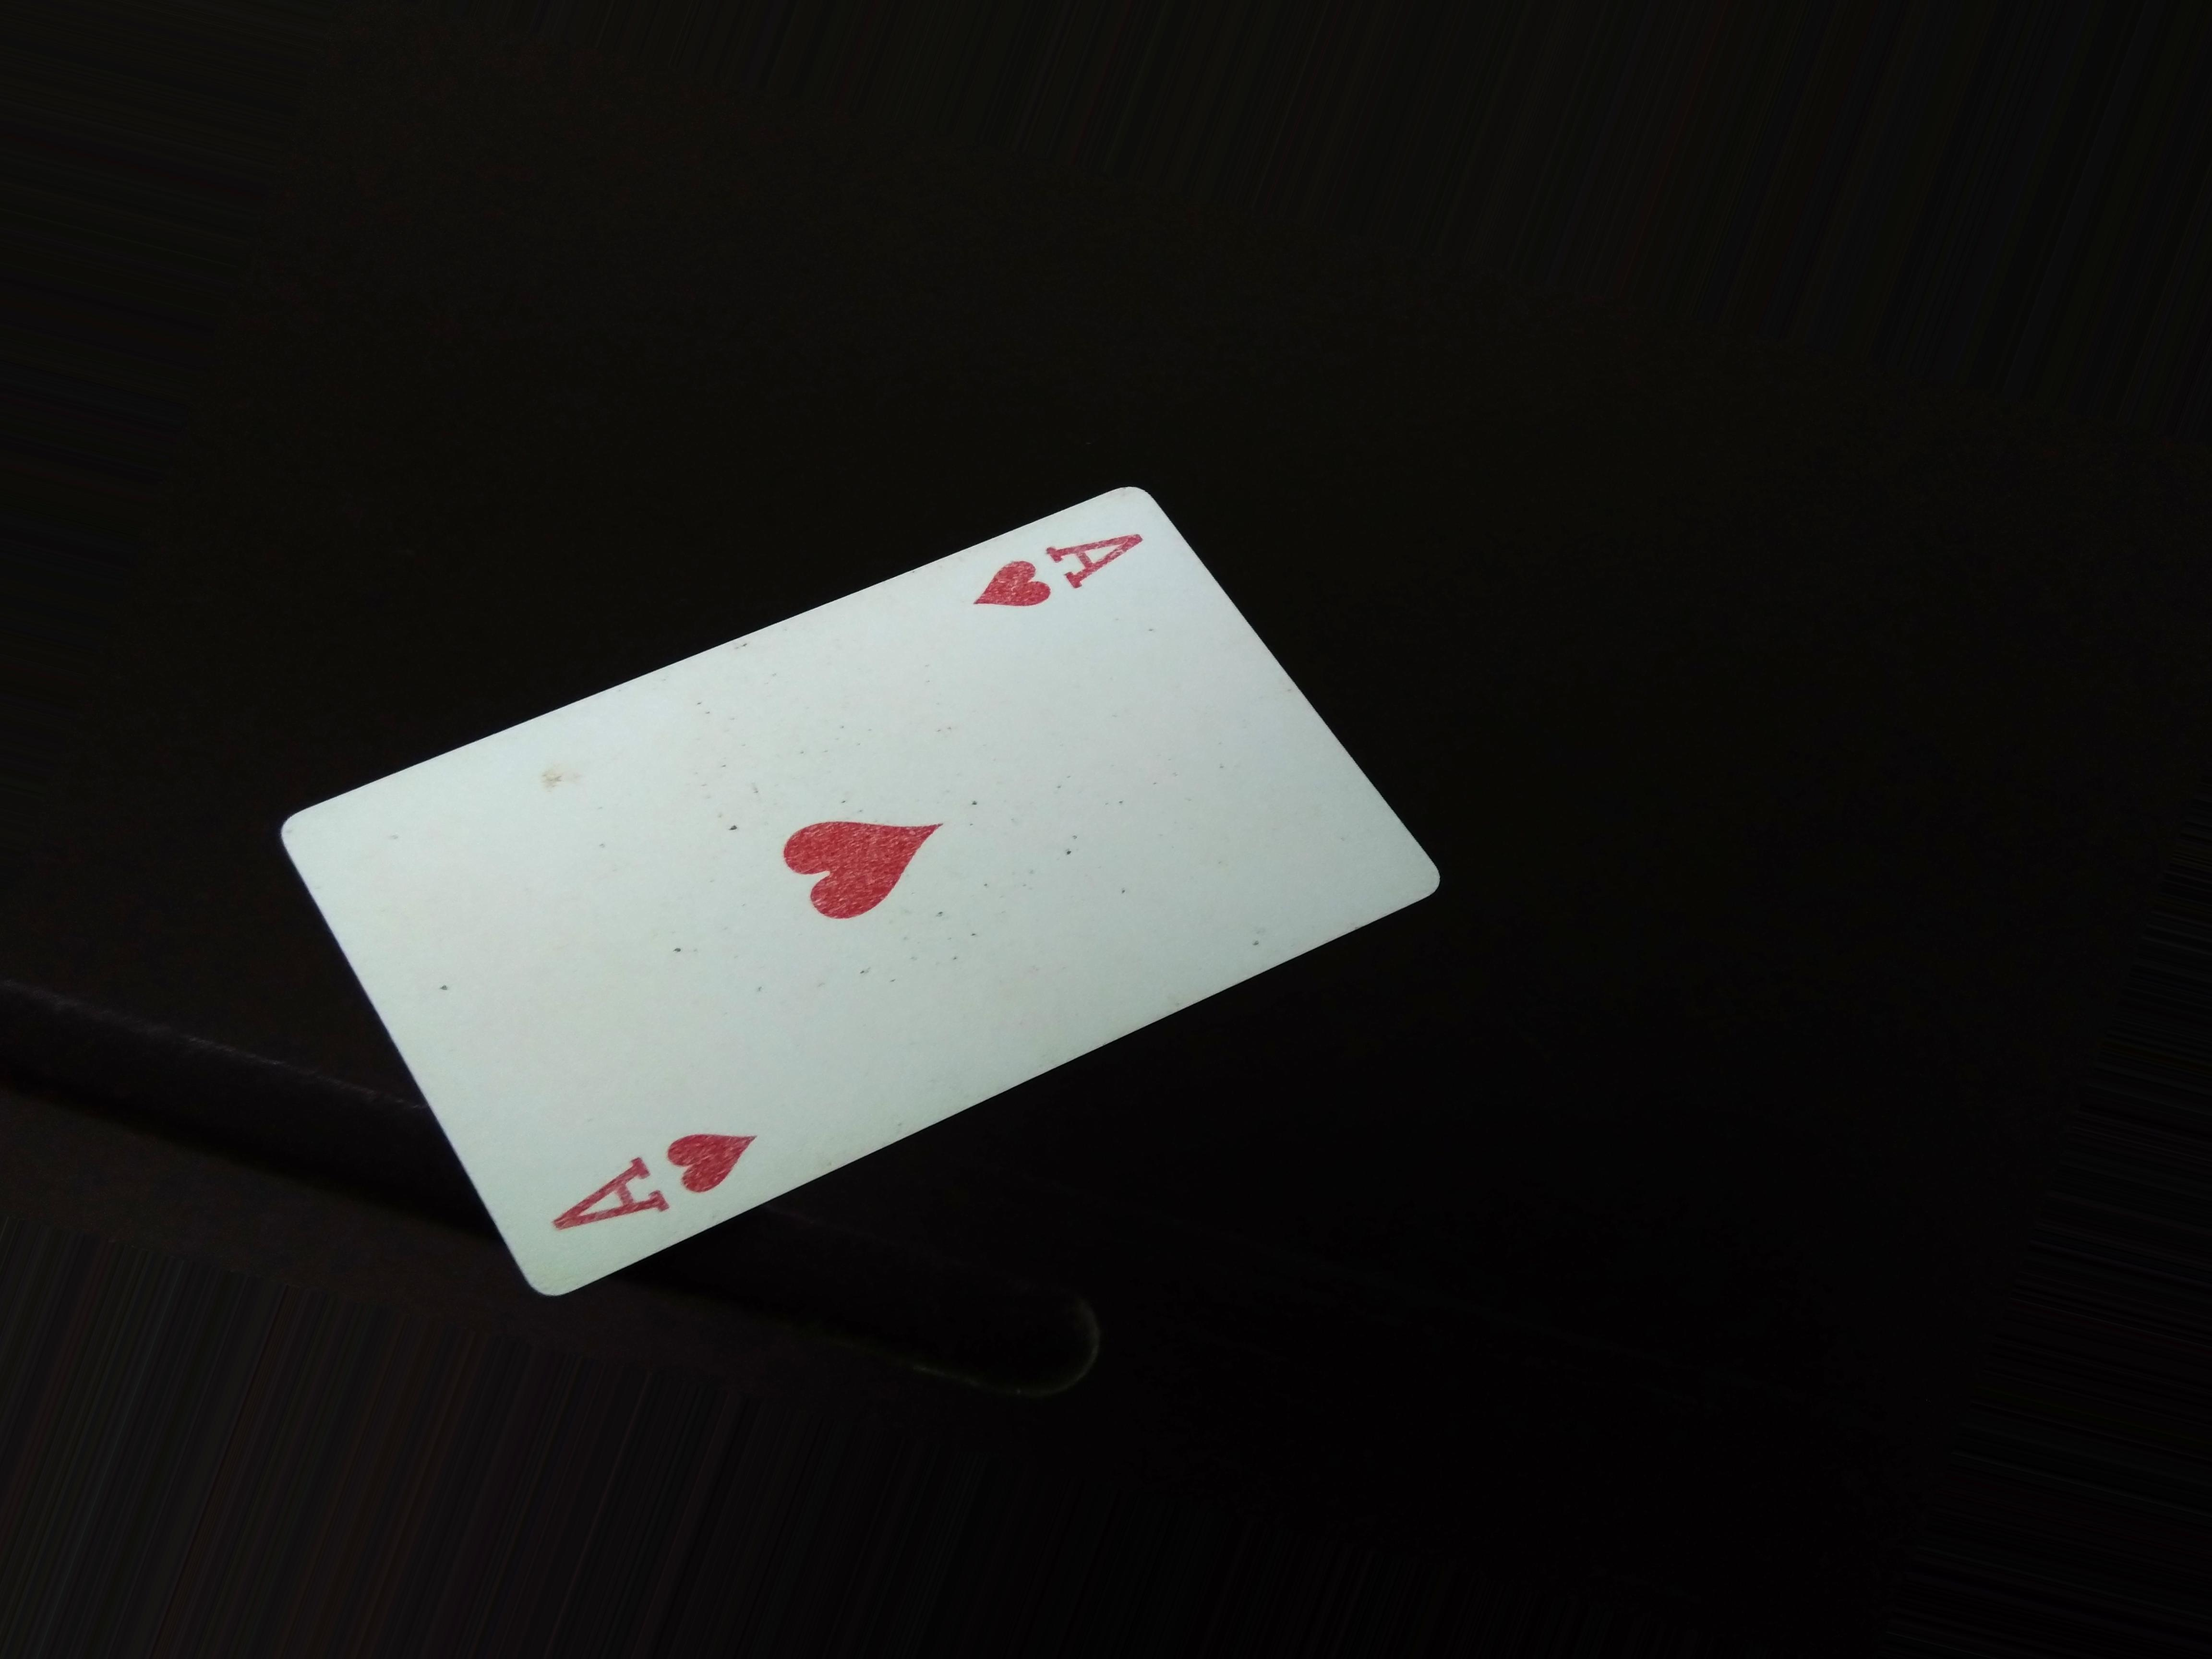AH: (540, 1107, 745, 1262)
